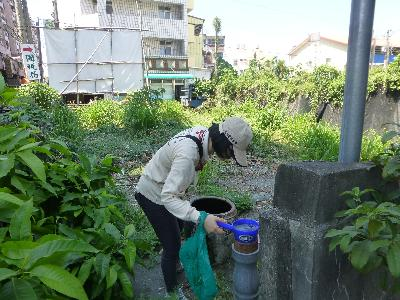bowl: (232, 217, 262, 243)
bucket: (185, 194, 239, 265)
